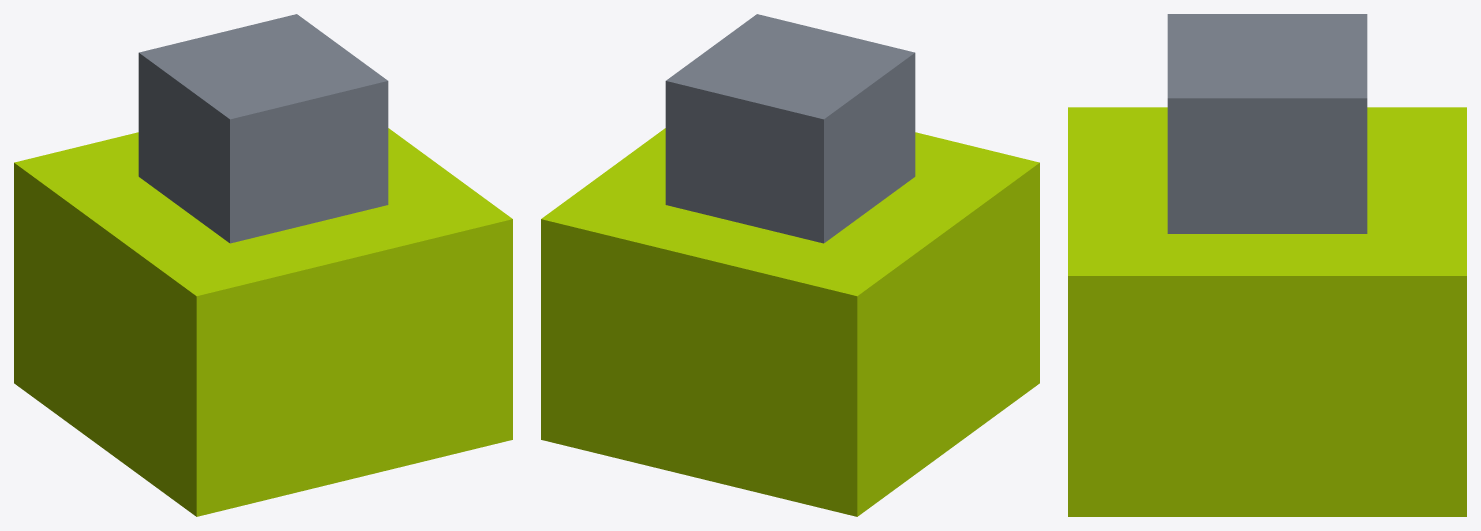
Rendered from sm_sample_model.gltf.
3 renders of one model, left to right at view 1: azimuth 30°, elevation 25°; view 2: azimuth 150°, elevation 25°; view 3: azimuth 270°, elevation 25°, orthographic. The views are drawn at different scales.
Visible parts, largest first — view 1: SimReady_Base_Chassis, SimReady_Sensor_Head; view 2: SimReady_Base_Chassis, SimReady_Sensor_Head; view 3: SimReady_Base_Chassis, SimReady_Sensor_Head.
Part boxes in pixels (x1,y1,x2,y2): SimReady_Base_Chassis: [14, 128, 512, 516]; SimReady_Sensor_Head: [138, 14, 388, 243]; SimReady_Base_Chassis: [541, 128, 1039, 516]; SimReady_Sensor_Head: [665, 14, 915, 243]; SimReady_Base_Chassis: [1068, 107, 1466, 516]; SimReady_Sensor_Head: [1167, 14, 1367, 233].
Size of the model in its own units: 1.2 by 1.25 by 1.2.
